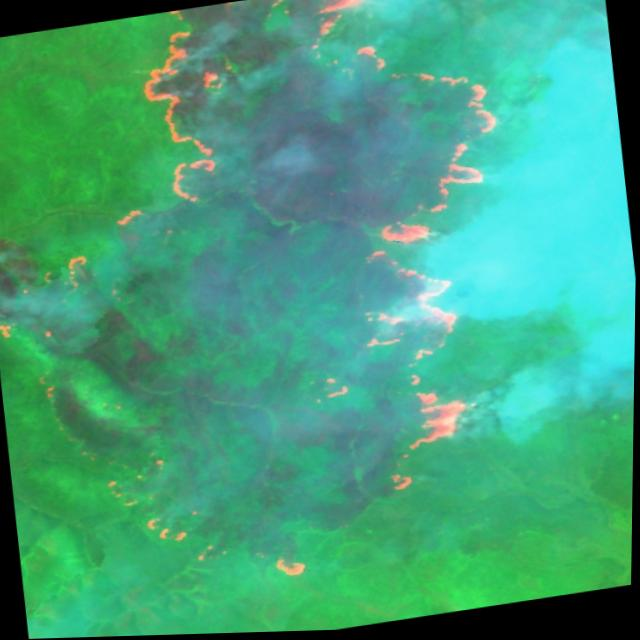fire: (296, 244, 475, 507), (332, 28, 533, 252), (82, 5, 242, 240), (0, 243, 143, 412), (97, 446, 234, 578), (265, 0, 378, 72), (265, 549, 318, 584)
